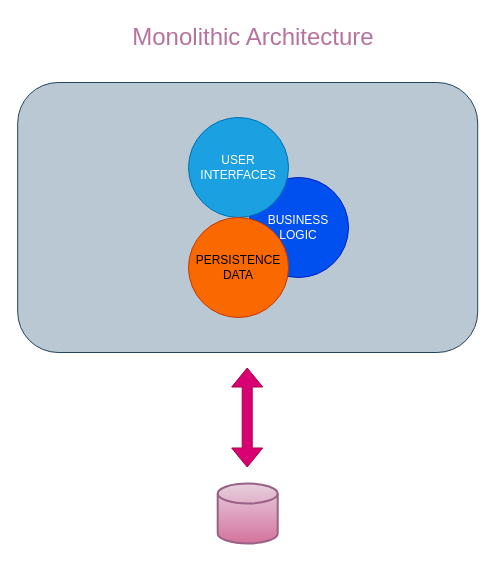
Image size: 495x581. Some labels were removed from this diagram. Here are the shapes that lost their labels. From the top down, the box of each, then its label:
(17, 82, 478, 352): SYSTEM
(216, 482, 278, 544): DATABASE
